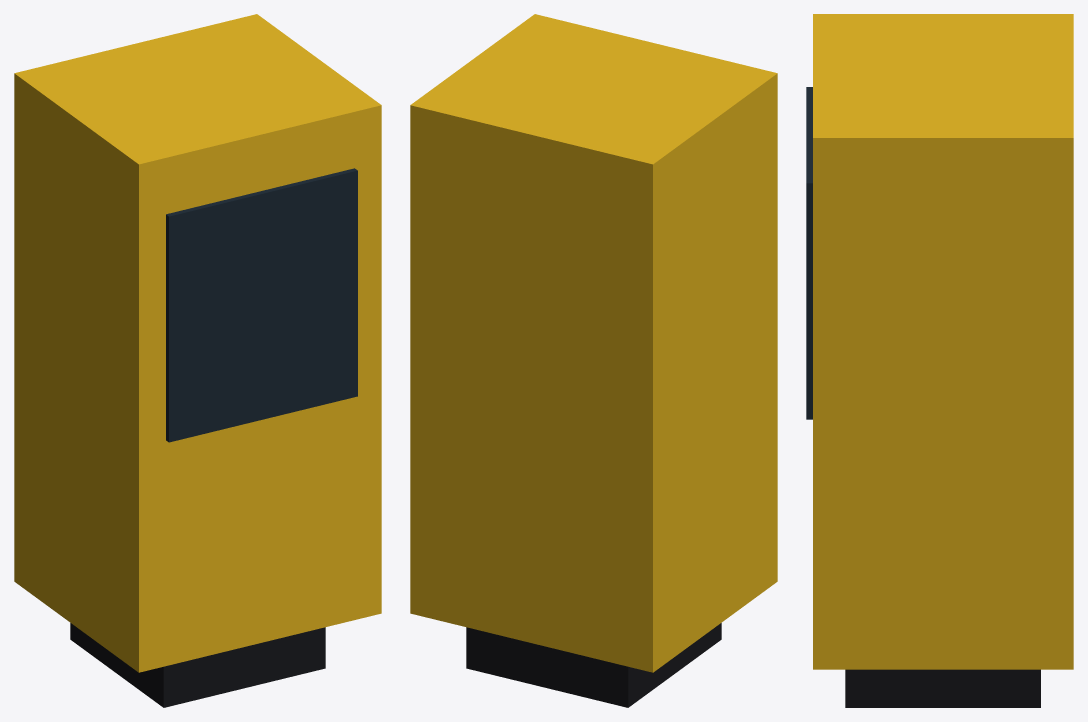
File: newsbox.glb
3 views of the same model, side by side, from view 1: azimuth 30°, elevation 25°; view 2: azimuth 150°, elevation 25°; view 3: azimuth 270°, elevation 25° (orthographic). The views are drawn at different scales.
Parts seen in each view (by area): view 1: newsbox_Body; view 2: newsbox_Body; view 3: newsbox_Body.
Boxes of the visible parts, x1,y1,x2,y2 form: newsbox_Body: (14, 14, 381, 707); newsbox_Body: (410, 14, 777, 707); newsbox_Body: (806, 14, 1073, 707).
Bounding box in the file's own units: 0.45 × 1 × 0.41.
